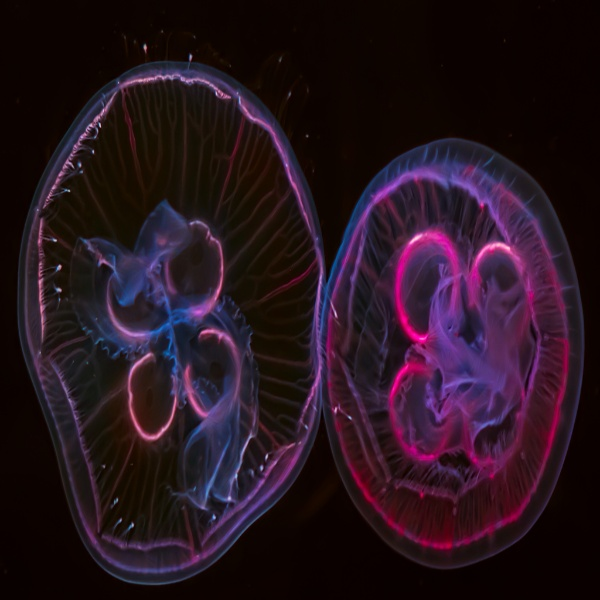Jellyfish: (15, 56, 329, 588), (318, 132, 585, 567)
